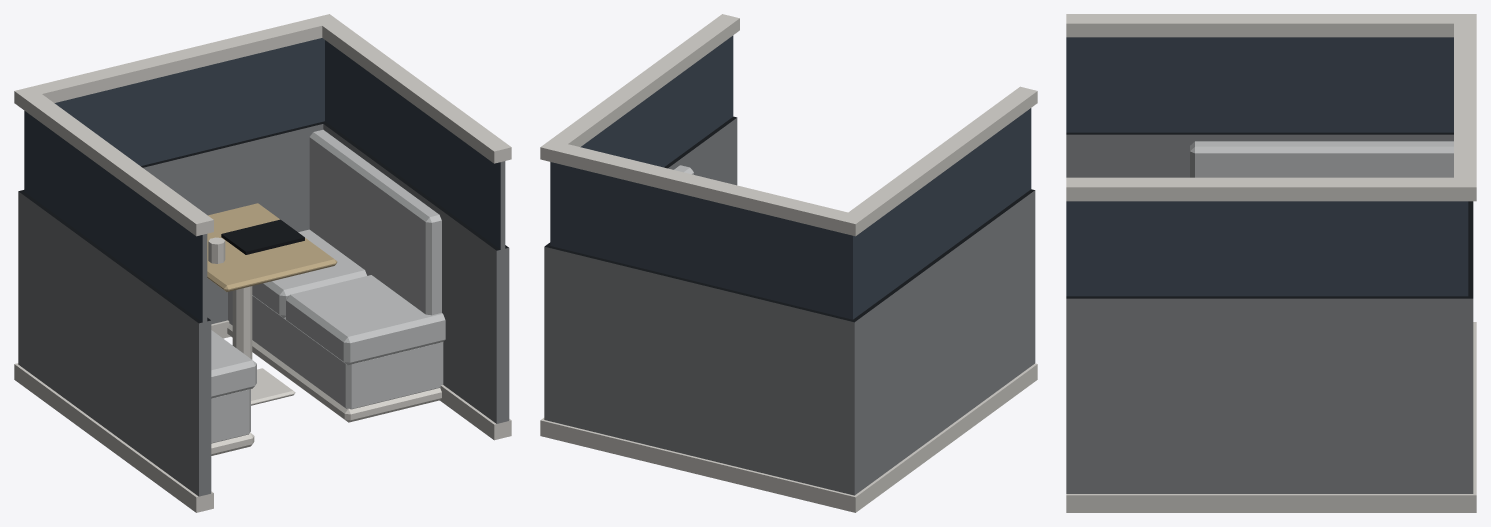
Rendered from huddle-booth-4d63e7.glb.
3 renders of one model, left to right at view 1: azimuth 30°, elevation 25°; view 2: azimuth 150°, elevation 25°; view 3: azimuth 270°, elevation 25°, orthographic. The views are drawn at different scales.
Visible parts, largest first — view 1: huddle-booth; view 2: huddle-booth; view 3: huddle-booth.
Boxes of the visible parts, x1=… form: huddle-booth: x1=14, y1=14, x2=511, y2=512; huddle-booth: x1=540, y1=14, x2=1037, y2=512; huddle-booth: x1=1066, y1=14, x2=1476, y2=512.
Bounding box in the file's own units: 1.6 × 1.4 × 1.6.
